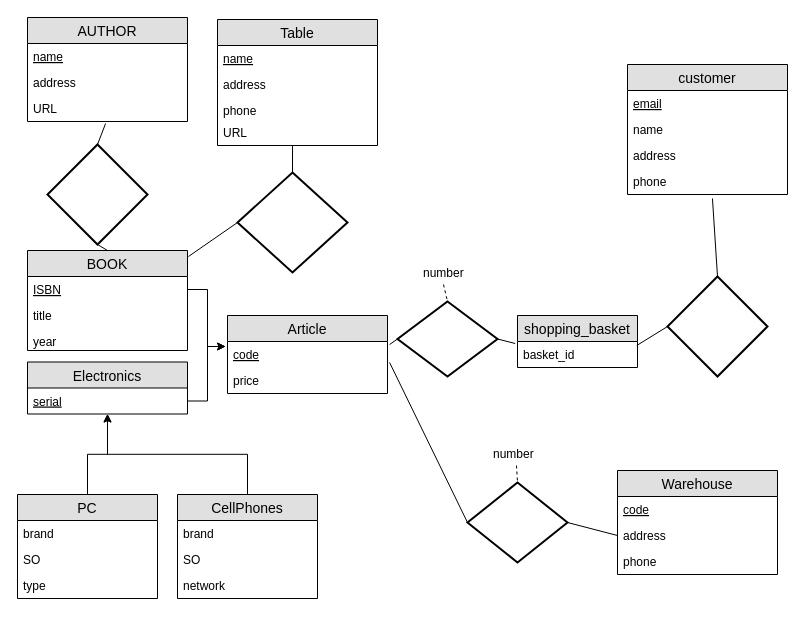
This 805x619 diagram has some shape labels left out. The centre of each missing label's shape, as x and y in pixels:
"basket_of" belongs at (717,326).
"contains" belongs at (447,338).
"published_by" belongs at (292,222).
"stocks" belongs at (517,522).
"written_by" belongs at (97,194).
